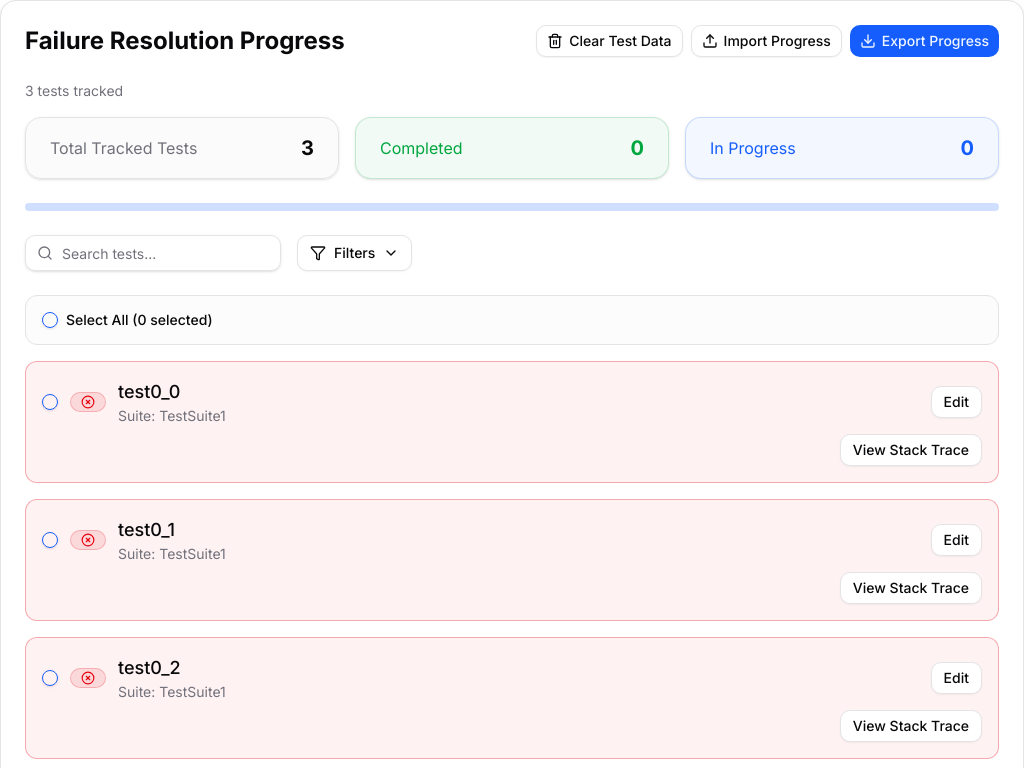
Test: FailureAnalysisProgress › Bulk Actions › should select and deselect all tests
The image size is (1024, 768).
# Select all tests
Click the checkbox named "select all" at {"x": 50, "y": 320}, box [42,312,58,328]
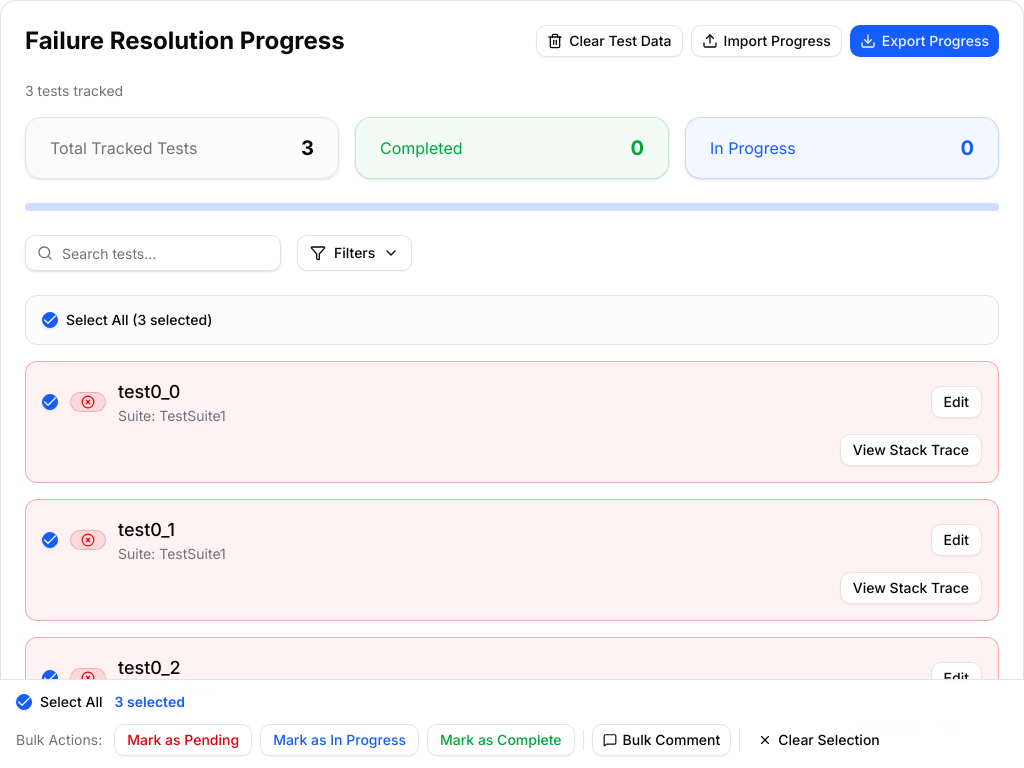
Now the checkbox named "select all" next to "Select All (" is checked
Now the text "Select All (3 selected)" is shown, box [42,312,212,328]
# Deselect all tests
Click the checkbox named "select all" next to "Select All (" at {"x": 50, "y": 320}, box [42,312,58,328]
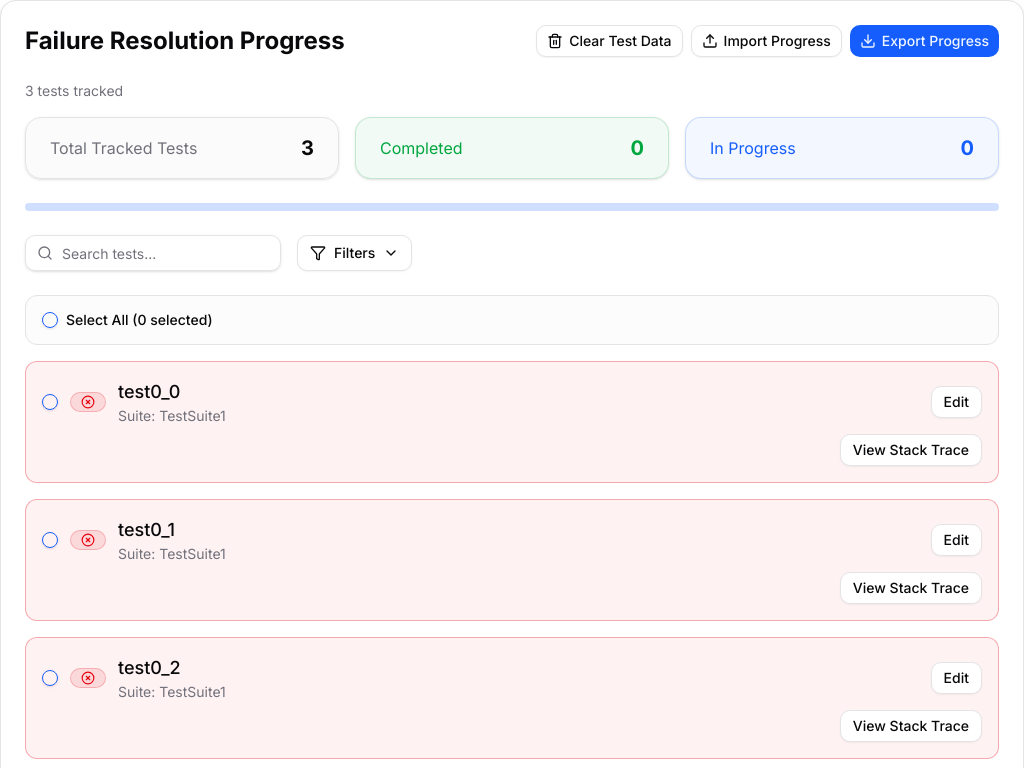
Now the checkbox named "select all" is not checked, box [42,312,58,328]
Now the text "Select All (0 selected)" is shown, box [42,312,213,328]
